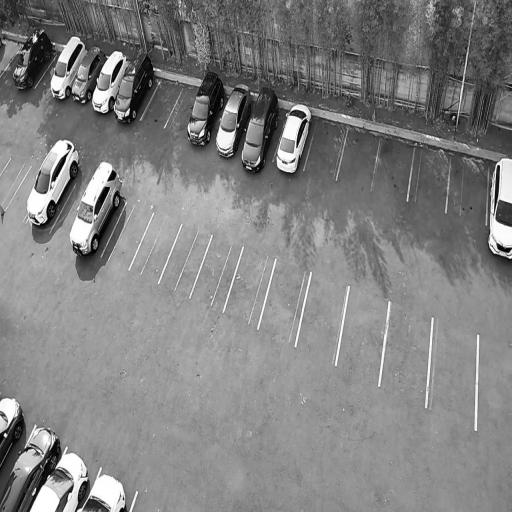Car: (64, 153, 130, 259), (21, 129, 86, 232), (0, 416, 65, 512), (27, 443, 100, 512), (236, 83, 285, 176), (270, 91, 317, 180), (183, 66, 231, 152), (111, 44, 160, 122), (210, 79, 257, 160), (74, 459, 137, 512), (9, 24, 58, 92), (45, 31, 89, 103), (87, 46, 131, 118), (483, 154, 512, 263), (0, 389, 33, 477), (69, 41, 110, 106)
Space Available: (426, 318, 478, 429), (379, 301, 433, 405), (336, 286, 389, 385), (296, 272, 349, 364), (259, 258, 311, 347), (223, 247, 276, 328), (190, 234, 243, 312), (159, 224, 212, 297), (129, 212, 182, 282), (101, 200, 154, 269), (445, 152, 490, 223), (407, 146, 451, 212), (371, 136, 415, 201), (336, 126, 381, 189), (304, 117, 348, 179), (140, 77, 183, 128), (51, 183, 87, 237), (4, 165, 40, 217), (0, 156, 31, 212), (164, 89, 197, 133), (35, 52, 61, 91), (0, 49, 21, 80)
